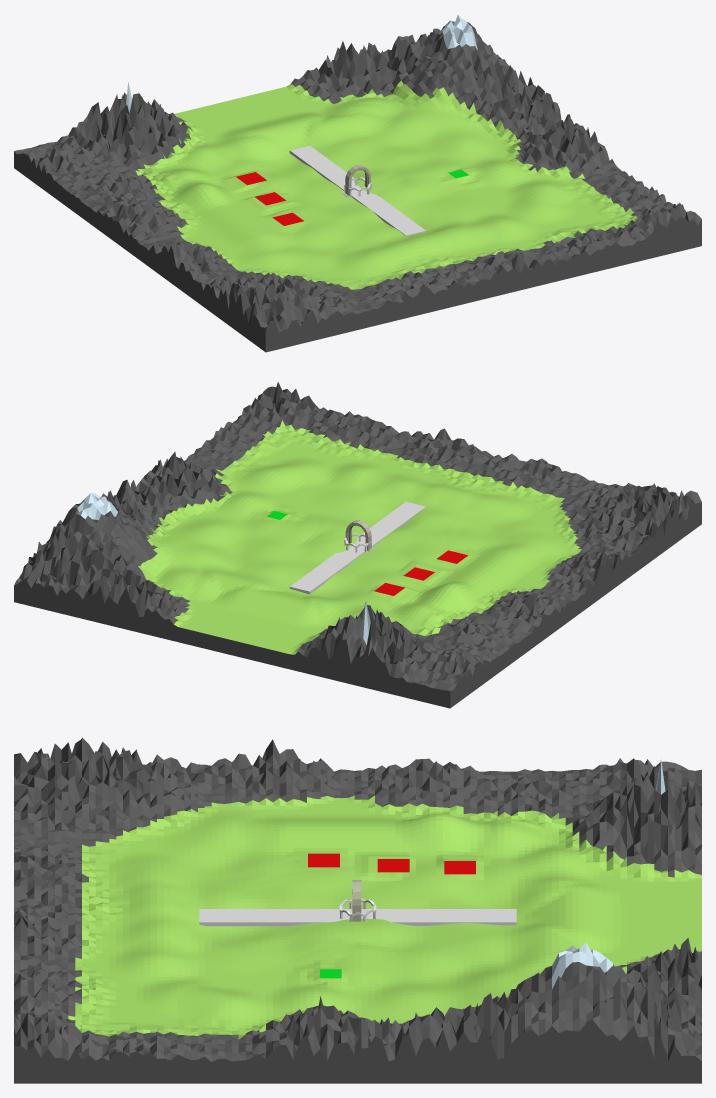
File: Map.fbx
The picture shows the model from 3 angles, top to bottom: view 1: azimuth 30°, elevation 25°; view 2: azimuth 150°, elevation 25°; view 3: azimuth 270°, elevation 25°; orthographic projection. The views are drawn at different scales.
Visible parts, largest first — view 1: Plane, Cube; view 2: Plane, Cube; view 3: Plane, Cube.
Part boxes in pixels (box(x1,y1,x2,y2)): Plane: box(14, 15, 701, 352); Cube: box(289, 145, 426, 235); Plane: box(14, 382, 701, 708); Cube: box(289, 501, 425, 594); Plane: box(14, 737, 701, 1083); Cube: box(199, 909, 516, 926).
Bounding box in the file's own units: 32500 × 6177 × 32500.
